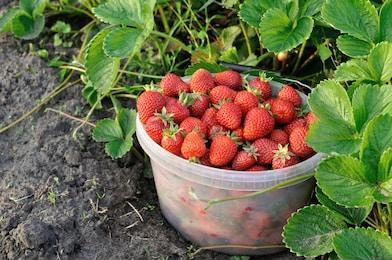Fresa: (241, 105, 277, 145), (207, 132, 240, 170), (134, 87, 166, 125), (214, 99, 246, 132), (158, 127, 186, 160), (187, 67, 218, 96), (160, 71, 192, 99), (180, 128, 206, 162), (212, 68, 245, 92), (231, 148, 258, 173)
